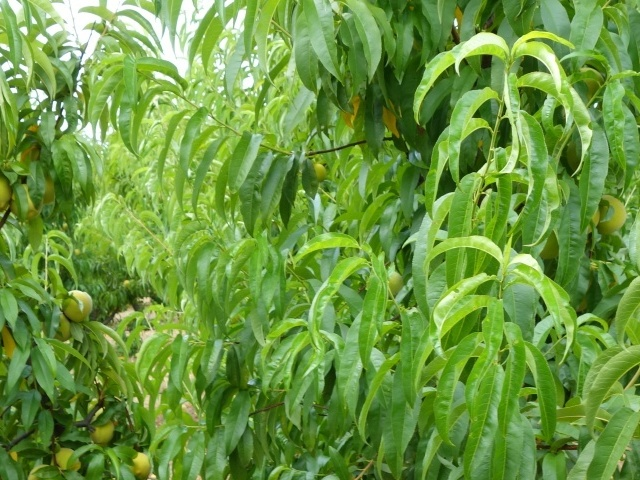peach: (1, 180, 47, 222), (594, 192, 631, 235), (39, 305, 78, 345), (58, 284, 95, 325), (47, 442, 85, 478), (121, 445, 154, 478), (86, 415, 118, 446), (307, 160, 333, 188)
